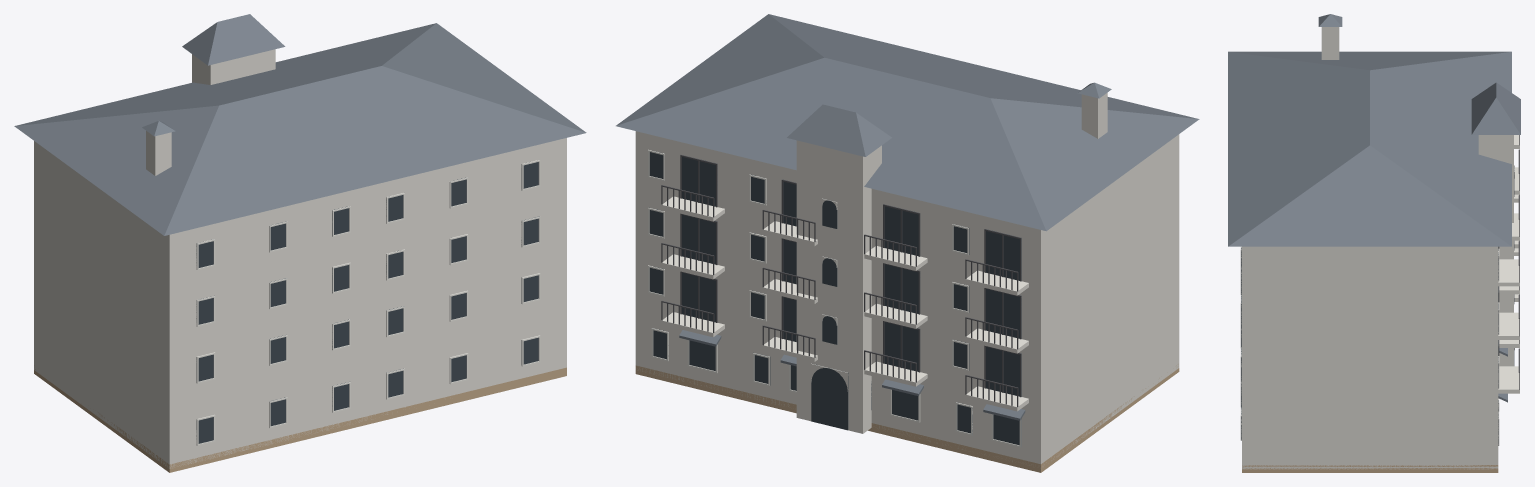
File: ca_apartments4.glb
3 renders of one model, left to right at view 1: azimuth 30°, elevation 25°; view 2: azimuth 150°, elevation 25°; view 3: azimuth 270°, elevation 25°, orthographic. The views are drawn at different scales.
Visible parts, largest first — view 1: ca_apartments4; view 2: ca_apartments4; view 3: ca_apartments4.
Boxes of the visible parts, <box> form: ca_apartments4: <box>14,14,586,472</box>; ca_apartments4: <box>616,14,1199,472</box>; ca_apartments4: <box>1228,14,1520,472</box>.
Size of the model in its own units: 23.4 by 16.35 by 14.85.
